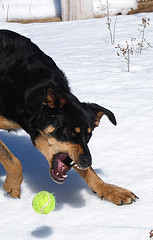tennis ball: (31, 190, 57, 215)
